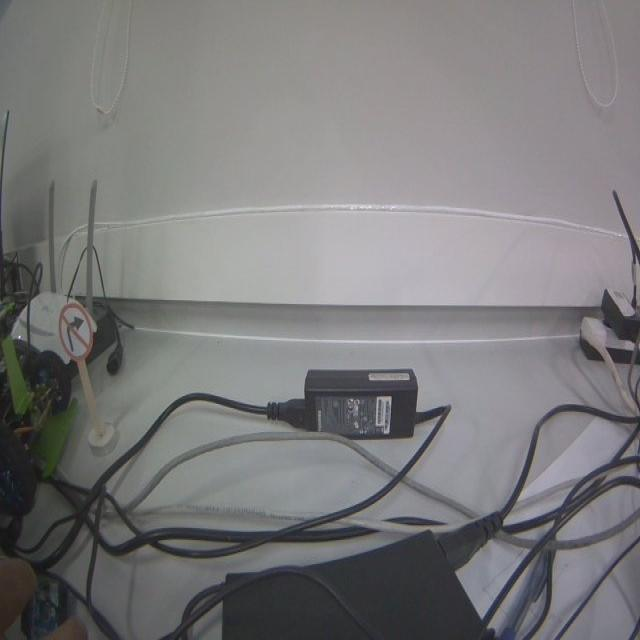Dilarang Belok Kanan: (58, 303, 94, 361)
